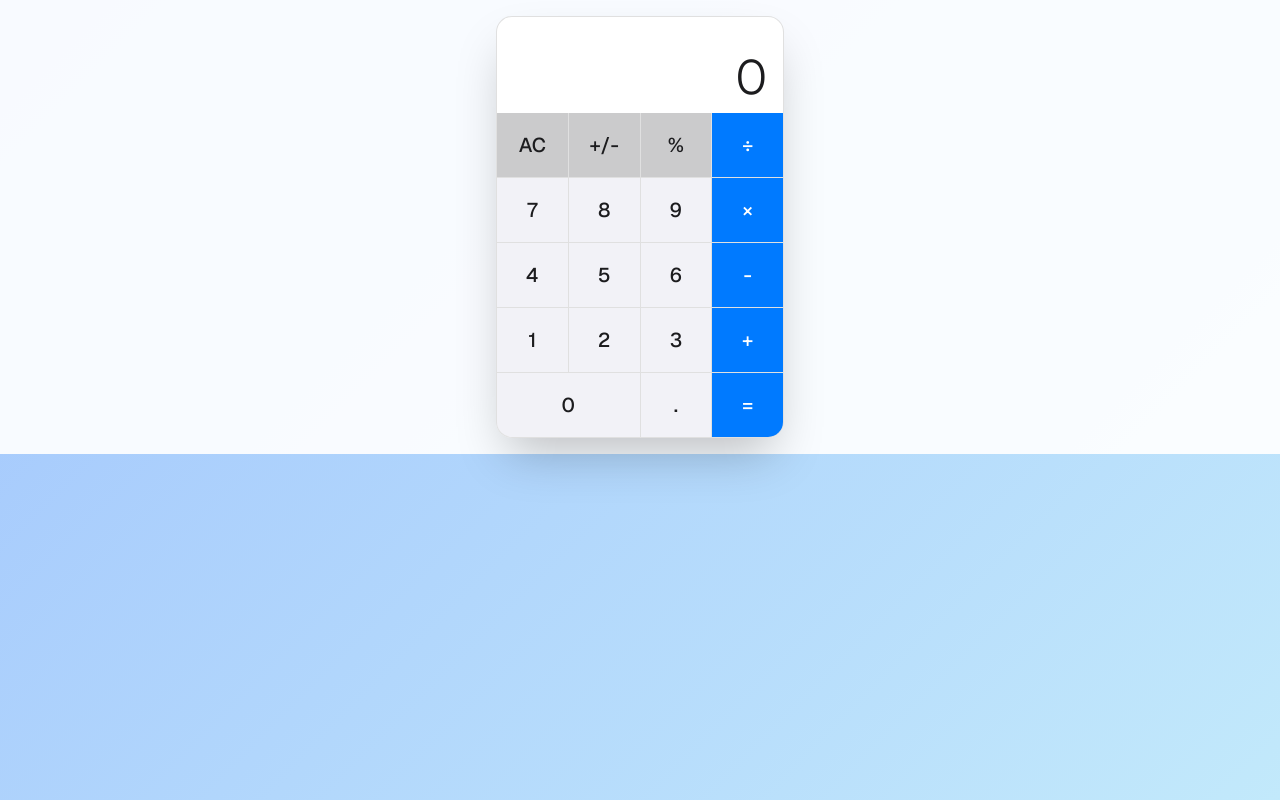
Calculator › clears the display
What coordinates should you click on to do the following:
click the button with test id "calc-9"
I would click on:
 (676, 210)
Its box is [640,178,711,242].
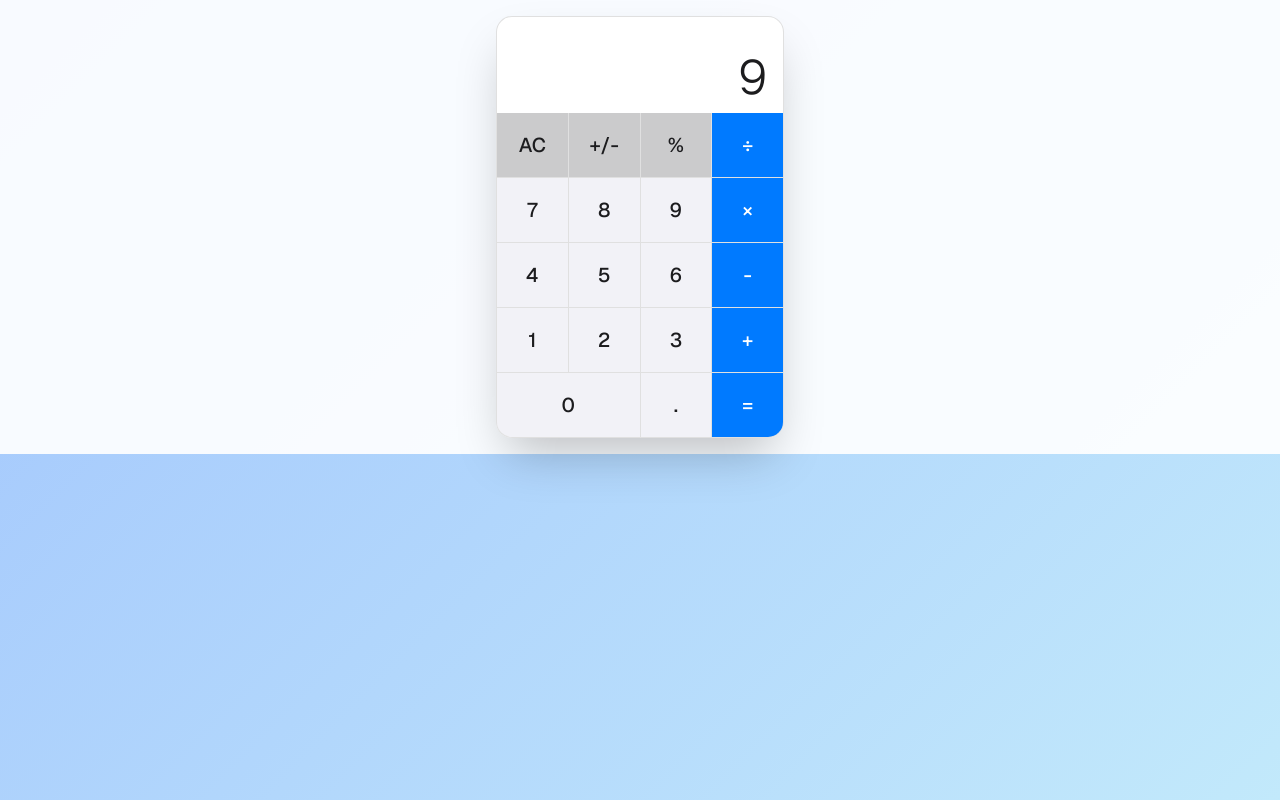
What coordinates should you click on to do the following:
click the button with test id "calc-clear"
I would click on:
 (532, 145)
Its box is [497,113,568,177].
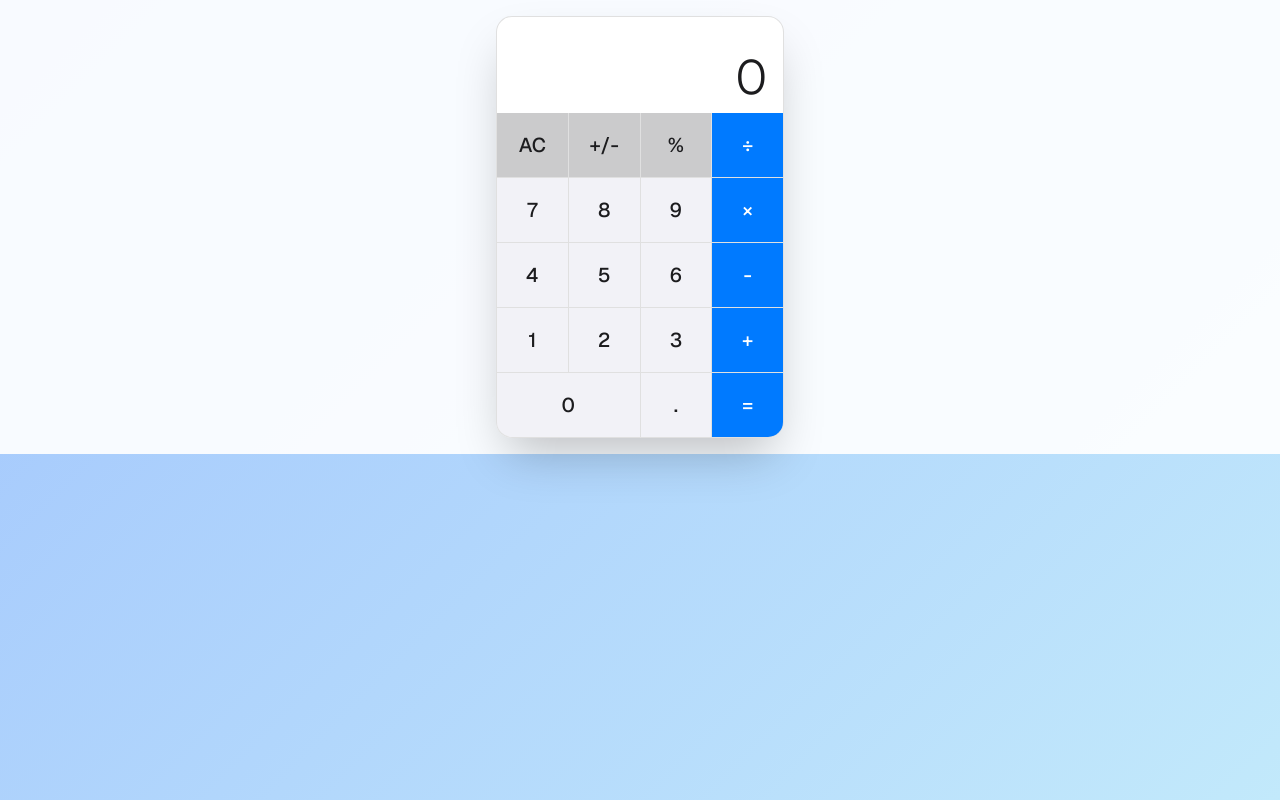
Expected: the text with test id "calc-display" reads "0", [735,46,767,108]
